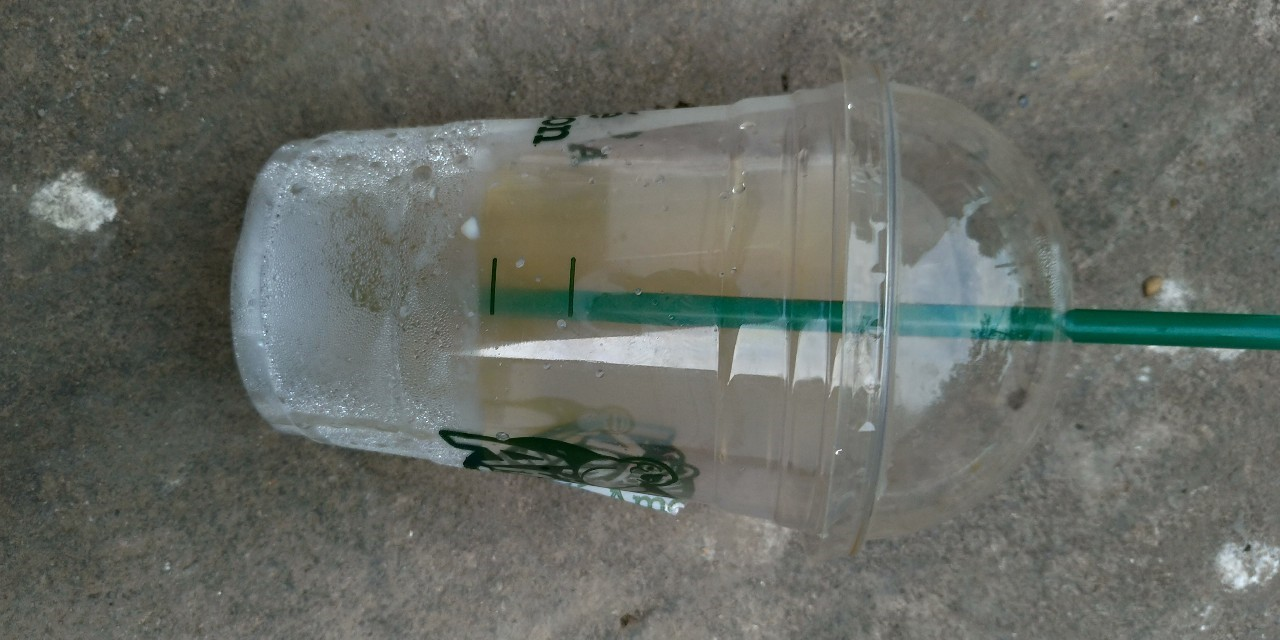PlasticCup: (227, 56, 1068, 564)
